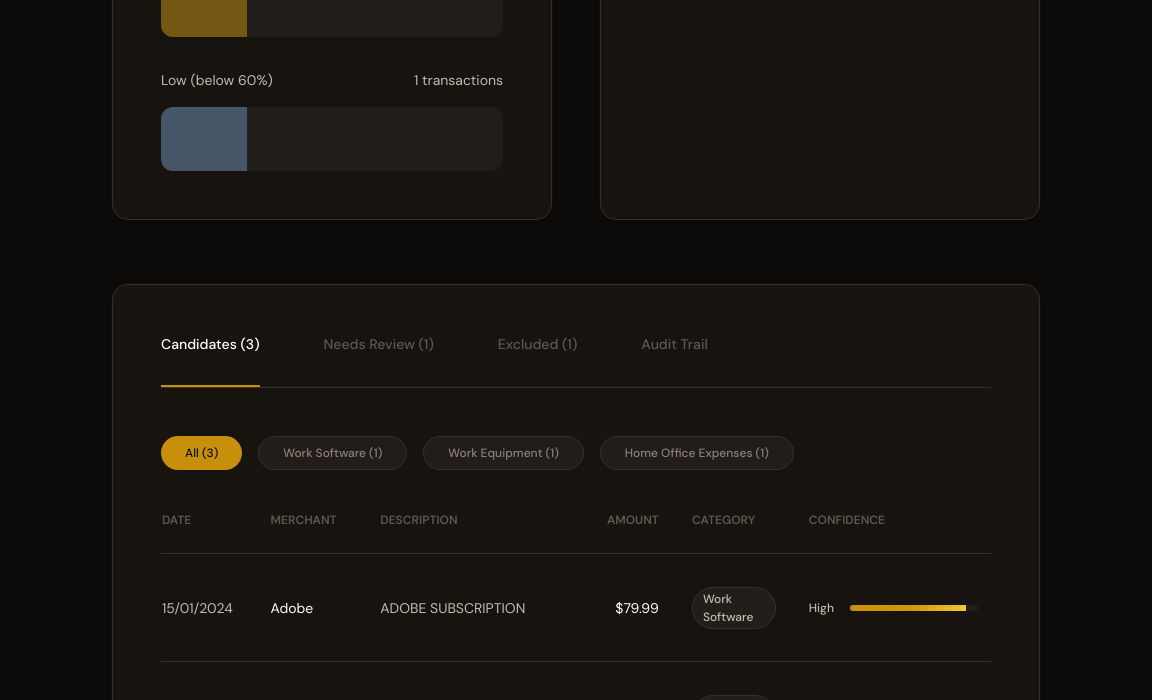
Test: Report Page › switches between tabs when clicked
(page scrolled)
Click the tab "Needs Review (1)" at coordinates (379, 360), box [324,333,434,387]
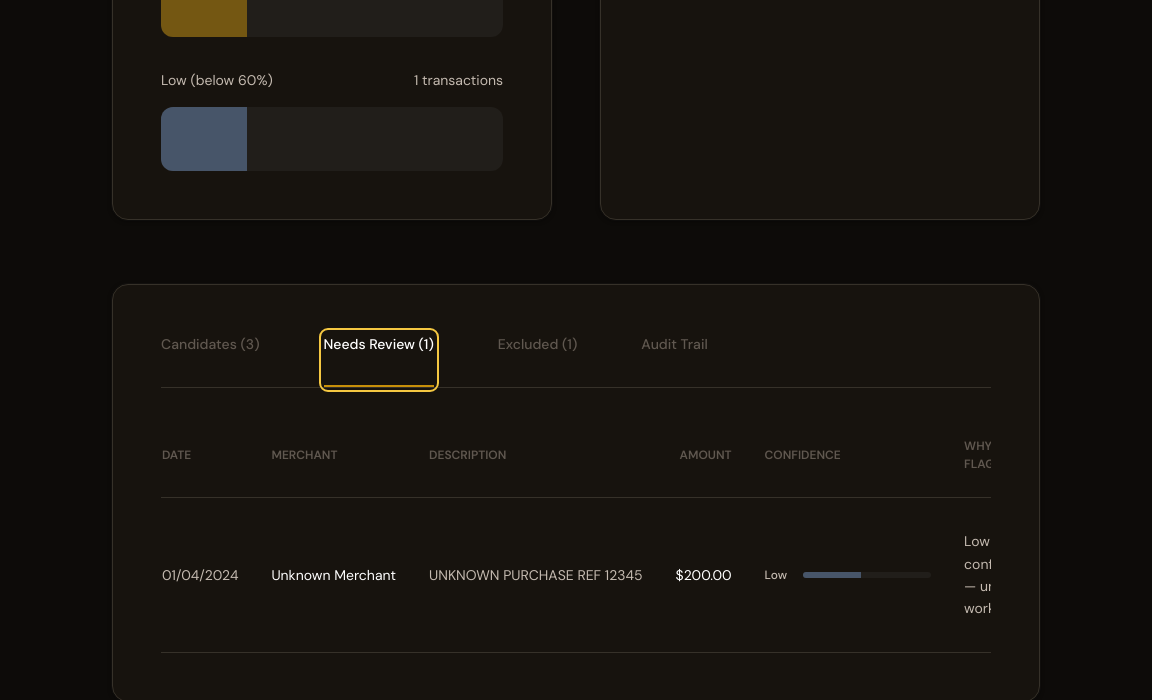
Expected: the text "Unknown Merchant" is shown, [270,498,428,652]
